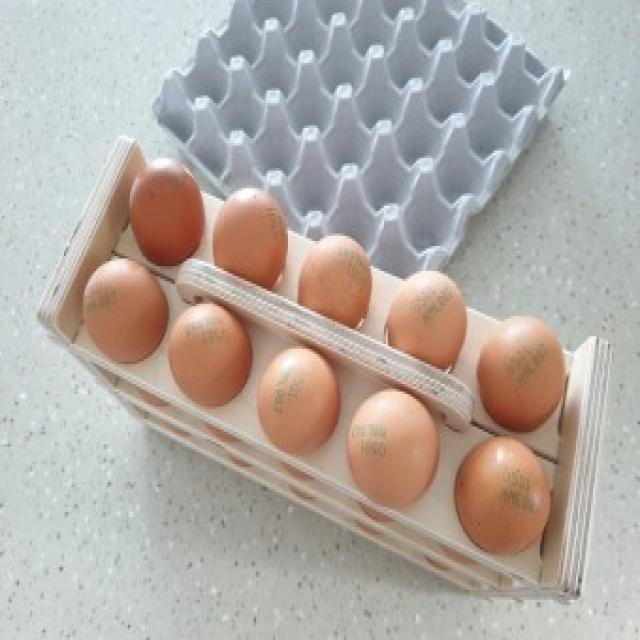eggs: (456, 433, 557, 559), (472, 312, 570, 438), (340, 389, 438, 506), (254, 344, 346, 458), (78, 261, 169, 370), (382, 266, 469, 379), (127, 157, 210, 270), (208, 182, 290, 296), (171, 302, 255, 406), (292, 234, 374, 330)
